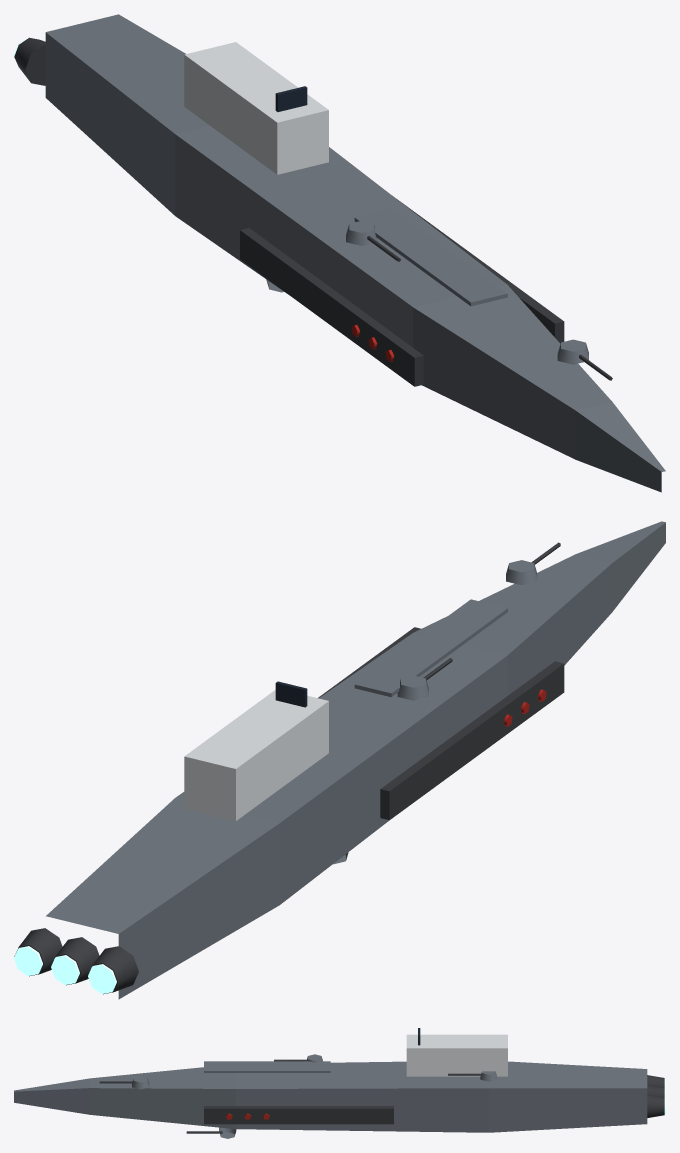
Rendered from space_ship_destroyer_mk3.glb.
3 views of the same model, one above another, from view 1: azimuth 30°, elevation 25°; view 2: azimuth 150°, elevation 25°; view 3: azimuth 270°, elevation 25° (orthographic). The views are drawn at different scales.
Visible parts, largest first — view 1: body, engine_0, turret_0, turret_2; view 2: body, engine_0, engine_1, engine_2, turret_0, turret_2; view 3: body, engine_2, turret_0, turret_1, turret_4, turret_2, engine_0, engine_1.
Boxes of the visible parts, x1,y1,x2,y2 form: body: (45, 14, 665, 492); engine_0: (14, 37, 45, 85); turret_0: (557, 339, 612, 380); turret_2: (346, 220, 400, 261); body: (46, 521, 665, 999); engine_0: (88, 946, 138, 994); engine_1: (51, 937, 99, 985); engine_2: (14, 928, 62, 976); turret_0: (506, 542, 560, 585); turret_2: (397, 658, 452, 700); body: (14, 1028, 647, 1132); engine_2: (647, 1094, 665, 1117); turret_0: (99, 1076, 149, 1089); turret_1: (186, 1127, 236, 1138); turret_4: (448, 1071, 497, 1081); turret_2: (274, 1054, 322, 1062); engine_0: (647, 1075, 665, 1088); engine_1: (647, 1085, 665, 1098).
Size of what is drawn, in the model's own units: 8.4 by 9.21 by 56.18.
